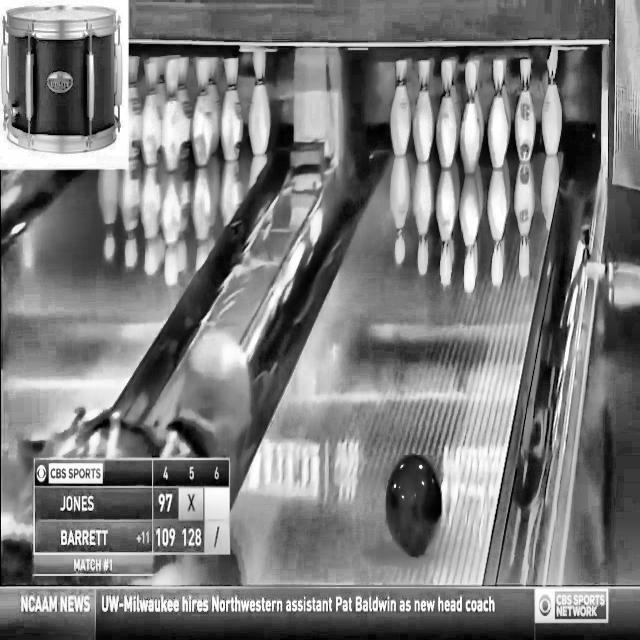bowling-ball: (387, 455, 442, 557)
bowling-pins: (488, 58, 511, 168), (460, 60, 482, 173), (436, 59, 458, 168), (543, 44, 563, 154), (414, 60, 435, 161), (516, 58, 536, 161), (391, 59, 411, 156), (494, 58, 512, 123), (474, 59, 485, 145), (452, 60, 462, 137)
